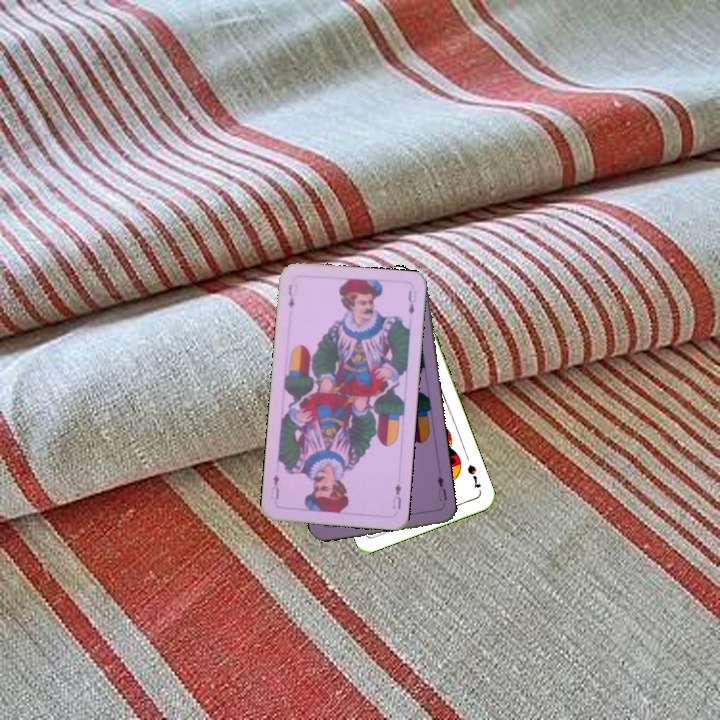EU: (388, 479, 404, 511), (433, 472, 449, 503), (284, 280, 300, 311)
S7: (463, 460, 483, 491)
